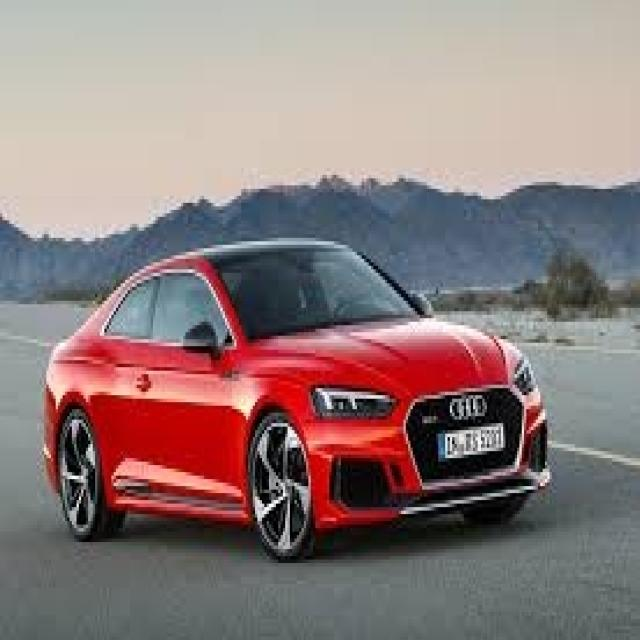red: (42, 234, 550, 563)
